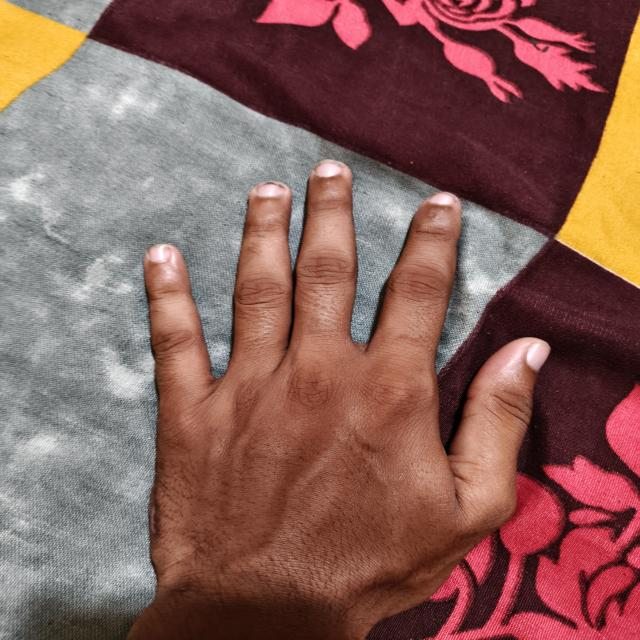nail: (526, 341, 550, 372), (315, 162, 346, 177), (149, 244, 172, 263), (427, 193, 459, 205), (258, 183, 281, 197)
